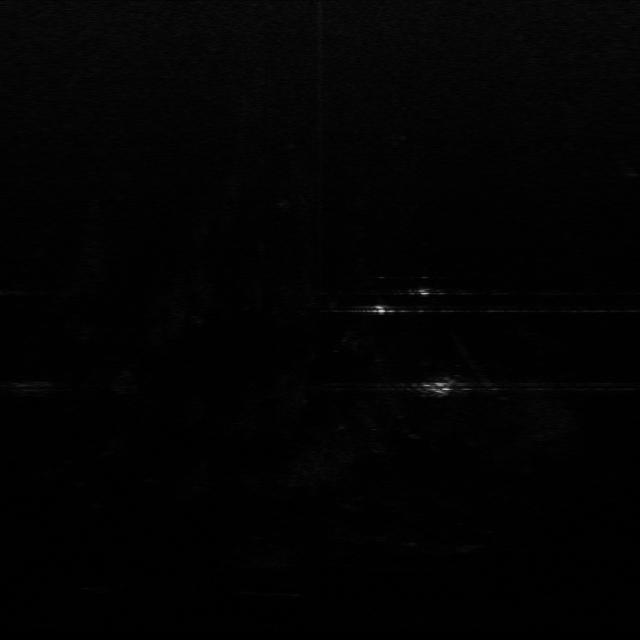rov: (421, 378, 462, 400)
